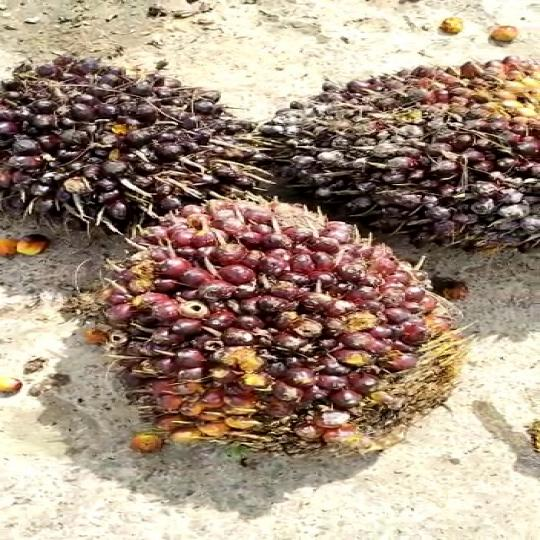kurang masak: (96, 196, 474, 468), (260, 59, 540, 256), (1, 51, 266, 231)
